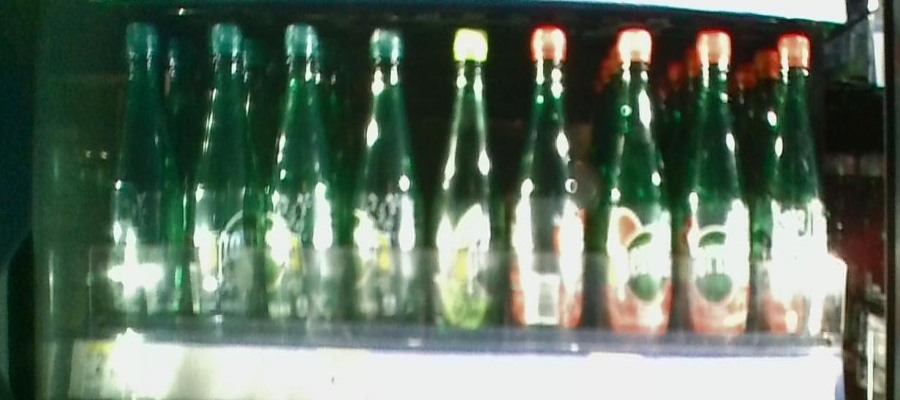bottle: (267, 13, 341, 343), (353, 19, 427, 347), (513, 23, 589, 342), (679, 27, 755, 345), (599, 27, 674, 348), (434, 23, 508, 347), (111, 13, 181, 329), (194, 8, 262, 332), (762, 25, 825, 354)
